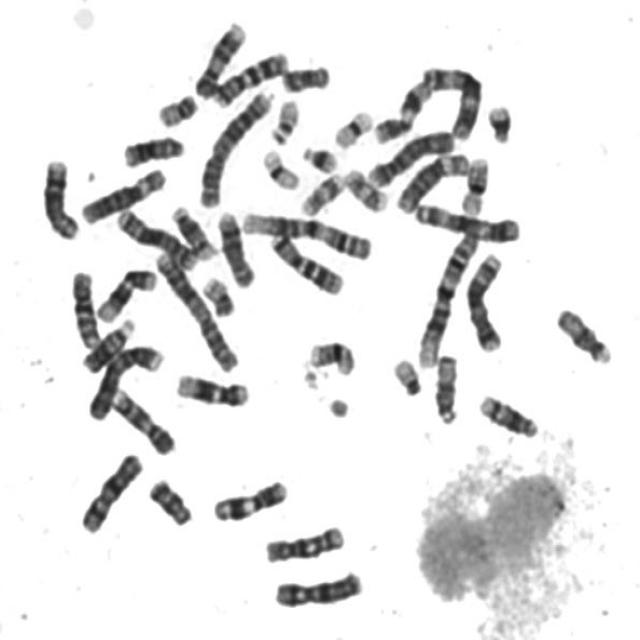A1: (412, 222, 482, 369), (236, 203, 375, 262)
A2: (151, 245, 241, 374), (194, 83, 275, 209)
A3: (419, 61, 486, 146), (409, 197, 522, 245)
B4: (83, 338, 166, 423), (362, 123, 457, 189)
B5: (112, 202, 200, 271), (461, 247, 507, 353)
C10: (260, 519, 347, 565), (66, 264, 104, 352)
C11: (208, 474, 290, 524), (370, 85, 435, 144)
C12: (92, 263, 160, 324), (170, 367, 252, 410)
C6: (76, 160, 169, 226), (391, 146, 472, 215)
C7: (265, 228, 346, 297), (208, 45, 291, 108)
C8: (35, 152, 82, 241), (212, 204, 258, 290)
C9: (106, 384, 178, 457), (190, 15, 249, 100)
D13: (77, 311, 138, 374), (118, 128, 186, 170)
D14: (473, 388, 541, 441), (166, 200, 219, 262)
D15: (552, 302, 615, 366), (429, 348, 461, 427)
E16: (455, 151, 492, 217), (304, 333, 358, 378)
E17: (295, 166, 347, 218), (339, 162, 390, 214)
E18: (143, 473, 195, 527), (277, 58, 333, 94)
F19: (329, 103, 375, 151), (258, 143, 302, 191)
F20: (152, 88, 200, 128), (198, 271, 237, 318)
G21: (482, 97, 515, 146), (298, 139, 340, 174)
G22: (265, 92, 302, 144), (388, 352, 424, 398)
X: (74, 446, 146, 536), (268, 564, 366, 609)
